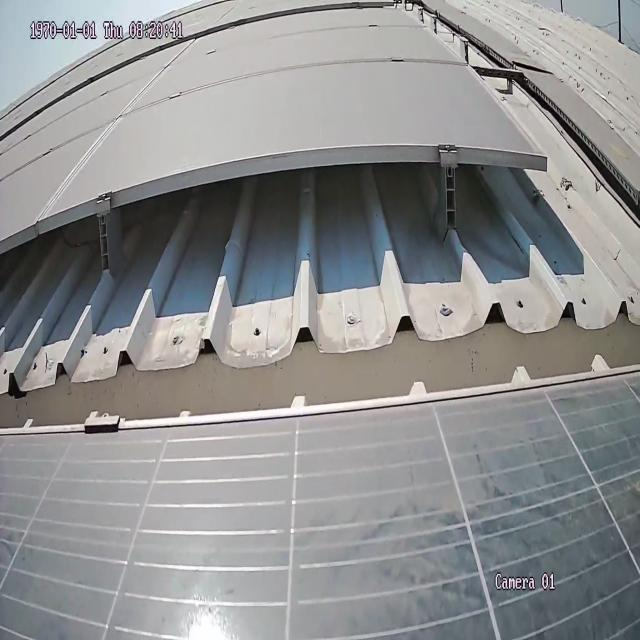interior panel: (36, 51, 183, 212)
outher panel: (2, 0, 640, 434)
